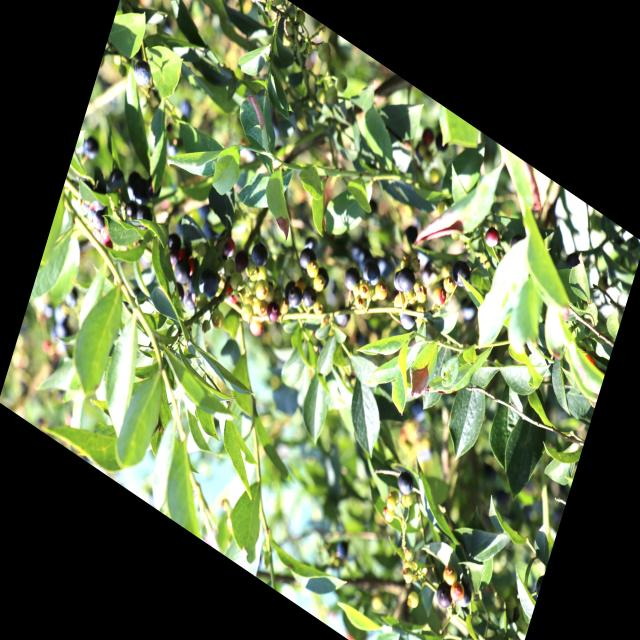blueberry: (196, 264, 223, 302), (391, 261, 418, 299), (247, 235, 273, 273), (130, 55, 156, 92), (448, 256, 473, 292), (171, 255, 194, 289), (433, 579, 456, 612), (360, 256, 382, 290), (297, 243, 319, 276), (394, 467, 416, 499), (134, 202, 155, 234), (342, 263, 363, 294), (299, 282, 319, 314), (482, 221, 502, 253), (164, 228, 185, 258), (107, 164, 127, 194), (231, 248, 251, 278), (458, 294, 478, 324), (397, 306, 418, 334), (62, 282, 81, 312), (314, 263, 333, 293), (333, 301, 352, 331), (82, 134, 102, 162), (286, 282, 304, 312), (458, 584, 474, 612), (90, 210, 108, 233)
blueberry-halfripe: (430, 282, 449, 311), (248, 316, 266, 342), (448, 579, 466, 605), (221, 237, 238, 261), (224, 286, 239, 307)
blueberry-unripe: (252, 276, 270, 305), (440, 562, 459, 589), (238, 301, 256, 327), (440, 271, 458, 297), (228, 268, 244, 294), (221, 256, 238, 280), (391, 292, 408, 316), (405, 588, 422, 612), (373, 279, 389, 304), (312, 294, 327, 318), (304, 260, 320, 282), (413, 283, 428, 306), (384, 492, 399, 514), (400, 566, 415, 587), (254, 298, 268, 320), (382, 505, 396, 527), (402, 544, 417, 564), (312, 273, 326, 294), (276, 296, 290, 316), (353, 294, 366, 314), (401, 490, 414, 510)
